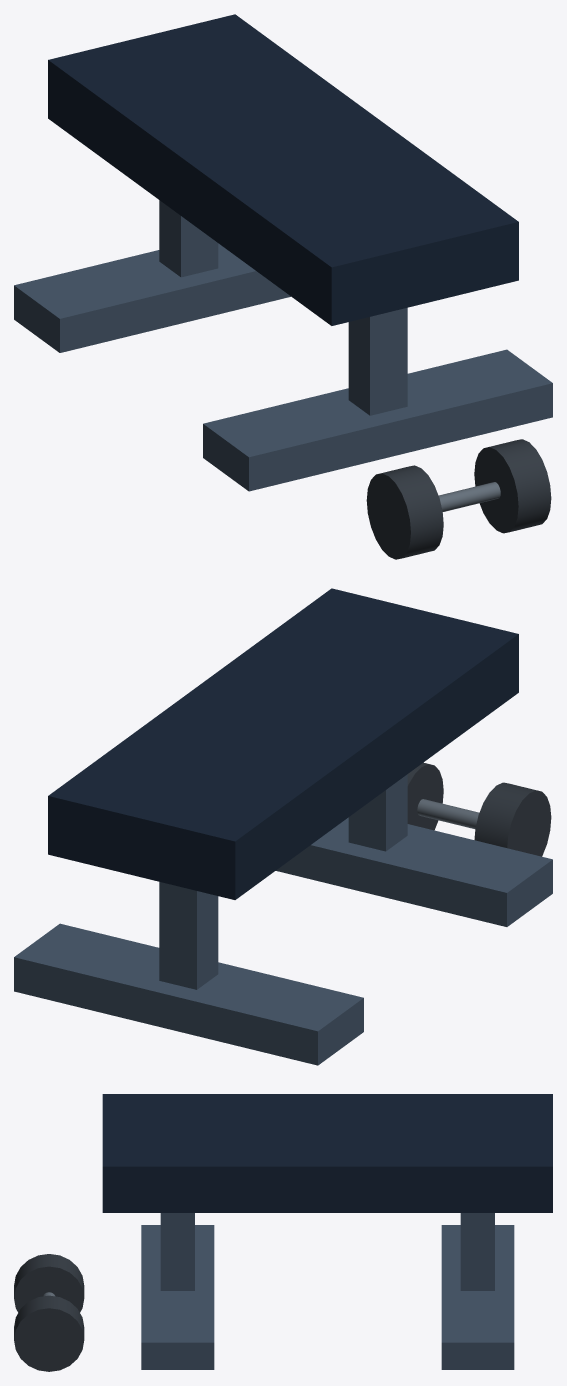
The model's file is dumbbell_split_bench.glb.
3 renders of one model, top to bottom at view 1: azimuth 30°, elevation 25°; view 2: azimuth 150°, elevation 25°; view 3: azimuth 270°, elevation 25°, orthographic. The views are drawn at different scales.
Visible parts, largest first — view 1: seat, benchFoot (×2), Ldumbbell, benchLeg (×2); view 2: seat, benchFoot (×2), benchLeg (×2), Ldumbbell; view 3: seat, benchFoot (×2), Ldumbbell, benchLeg (×2).
Boxes of the visible parts, <box> form: seat: <box>48,14,518,325</box>; benchFoot (×2): <box>14,243,552,491</box>; Ldumbbell: <box>366,439,551,559</box>; benchLeg (×2): <box>159,200,407,415</box>; seat: <box>48,588,518,899</box>; benchFoot (×2): <box>14,817,552,1065</box>; benchLeg (×2): <box>159,774,407,989</box>; Ldumbbell: <box>407,762,551,856</box>; seat: <box>102,1094,552,1212</box>; benchFoot (×2): <box>141,1225,514,1369</box>; Ldumbbell: <box>14,1254,84,1371</box>; benchLeg (×2): <box>160,1213,494,1290</box>.
Bounding box in the file's own units: 0.65 × 0.552 × 1.26.
